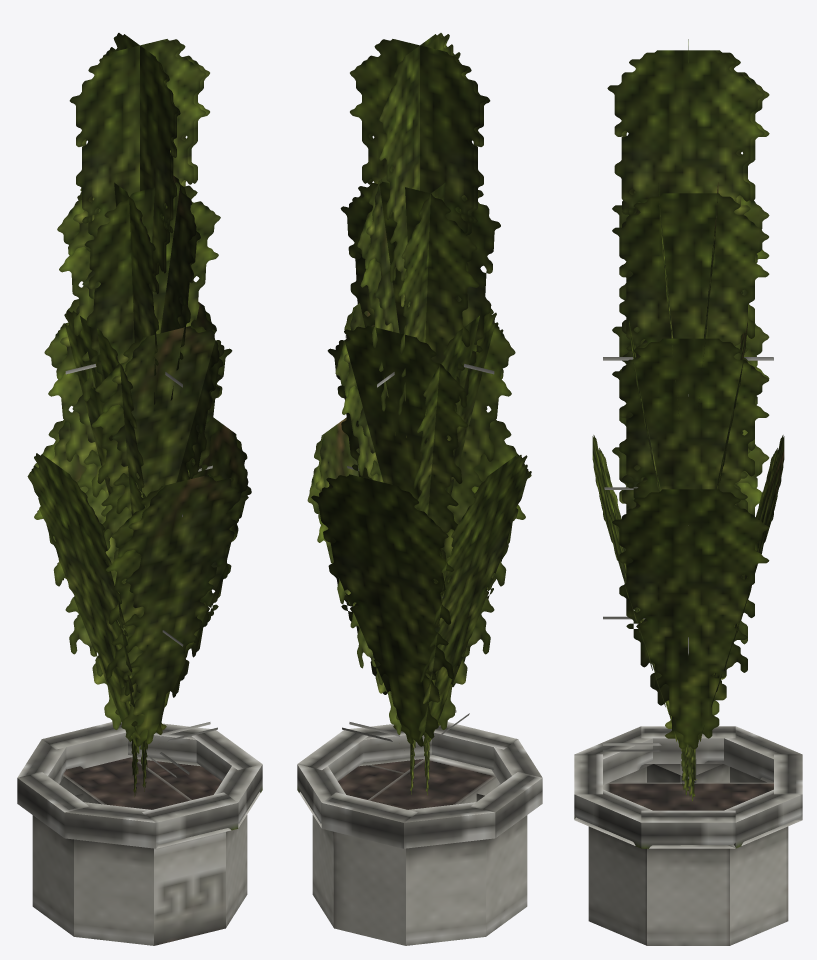
The model's file is potted tree.fbx.
3 renders of one model, left to right at view 1: azimuth 30°, elevation 25°; view 2: azimuth 150°, elevation 25°; view 3: azimuth 270°, elevation 25°, orthographic.
Visible parts, largest first — view 1: 44c5b00b-a6c9-b211-4cd8-3a302726eb31, 7792b6d2-d49d-5958-b70a-c62e6f204d1a, 74ec38da-fd16-aa26-2c1a-302fc3580741, 59230c39-c354-1102-895f-4b2ae2b81a68, 91e3c635-b8be-eeb1-450d-b52125d2020b, c1ecfdcb-32b5-067e-5611-33ddb70ca1e2, fdc61cca-9936-0fde-eadf-7d5d593531d4, 0e43d54b-73b0-ae7f-97cb-c90b352e3085, f78c0236-5a7f-7d1b-18b6-22c86d9eb57c, bbb1fc65-e40d-282f-8227-9e6630853e85, 0a43d55d-ff3e-8ad5-bd5a-60565aaa1a6f, 34c71029-bb19-4d69-0767-6c4bfb9a21e4 (+16 smaller); view 2: 15c2b3eb-10ff-2bfd-b7c6-0987764eea10, f78c0236-5a7f-7d1b-18b6-22c86d9eb57c, 74ec38da-fd16-aa26-2c1a-302fc3580741, 59230c39-c354-1102-895f-4b2ae2b81a68, 91e3c635-b8be-eeb1-450d-b52125d2020b, 6c800395-eca7-c67d-44cd-584f7b6e54cc, 75b3ba8f-f737-29e3-4583-6d61af67399e, 0e43d54b-73b0-ae7f-97cb-c90b352e3085, bbb1fc65-e40d-282f-8227-9e6630853e85, 7792b6d2-d49d-5958-b70a-c62e6f204d1a, 0a43d55d-ff3e-8ad5-bd5a-60565aaa1a6f, 34c71029-bb19-4d69-0767-6c4bfb9a21e4 (+15 smaller); view 3: 2feee4ec-60ff-858b-8022-1bc73772e481, 0e43d54b-73b0-ae7f-97cb-c90b352e3085, c7a5337b-d2fa-97f4-20d6-55512cc74f18, 34c71029-bb19-4d69-0767-6c4bfb9a21e4, 69432b47-92bb-f85d-91ca-eb8d968c5097, 5c6dc298-5ddc-dd36-efc7-c03dcedfe134, 6a048f75-44ab-6e87-ab5b-0ed425b010da, 59230c39-c354-1102-895f-4b2ae2b81a68, baaaf39d-59cb-f4b6-8d2b-57819040c490, d7800a6d-29ed-b129-3ed4-8792792a645d, afc6f7fa-ea1f-7d07-a19b-fae5ad6461d3, 9115a3e2-66cc-cf2f-053f-11ac923f9372 (+13 smaller).
Part boxes in pixels (x1,y1,x2,y2): 44c5b00b-a6c9-b211-4cd8-3a302726eb31: (106, 474, 248, 746); 7792b6d2-d49d-5958-b70a-c62e6f204d1a: (91, 325, 232, 593); 74ec38da-fd16-aa26-2c1a-302fc3580741: (65, 39, 209, 374); 59230c39-c354-1102-895f-4b2ae2b81a68: (59, 757, 225, 945); 91e3c635-b8be-eeb1-450d-b52125d2020b: (27, 453, 176, 777); c1ecfdcb-32b5-067e-5611-33ddb70ca1e2: (84, 182, 220, 381); fdc61cca-9936-0fde-eadf-7d5d593531d4: (74, 839, 153, 945); 0e43d54b-73b0-ae7f-97cb-c90b352e3085: (99, 33, 182, 387); f78c0236-5a7f-7d1b-18b6-22c86d9eb57c: (44, 299, 123, 585); bbb1fc65-e40d-282f-8227-9e6630853e85: (55, 310, 182, 646); 0a43d55d-ff3e-8ad5-bd5a-60565aaa1a6f: (32, 793, 83, 936); 34c71029-bb19-4d69-0767-6c4bfb9a21e4: (160, 175, 200, 516); 15c2b3eb-10ff-2bfd-b7c6-0987764eea10: (311, 474, 453, 746); f78c0236-5a7f-7d1b-18b6-22c86d9eb57c: (327, 325, 468, 595); 74ec38da-fd16-aa26-2c1a-302fc3580741: (345, 39, 494, 374); 59230c39-c354-1102-895f-4b2ae2b81a68: (334, 755, 500, 945); 91e3c635-b8be-eeb1-450d-b52125d2020b: (418, 455, 531, 746); 6c800395-eca7-c67d-44cd-584f7b6e54cc: (340, 181, 479, 470); 75b3ba8f-f737-29e3-4583-6d61af67399e: (406, 839, 485, 945); 0e43d54b-73b0-ae7f-97cb-c90b352e3085: (377, 33, 460, 387); bbb1fc65-e40d-282f-8227-9e6630853e85: (413, 312, 503, 597); 7792b6d2-d49d-5958-b70a-c62e6f204d1a: (436, 308, 515, 601); 0a43d55d-ff3e-8ad5-bd5a-60565aaa1a6f: (476, 793, 527, 936); 34c71029-bb19-4d69-0767-6c4bfb9a21e4: (357, 175, 399, 411); 2feee4ec-60ff-858b-8022-1bc73772e481: (603, 489, 769, 751); 0e43d54b-73b0-ae7f-97cb-c90b352e3085: (603, 50, 773, 360); c7a5337b-d2fa-97f4-20d6-55512cc74f18: (603, 338, 769, 619); 34c71029-bb19-4d69-0767-6c4bfb9a21e4: (604, 193, 769, 489); 69432b47-92bb-f85d-91ca-eb8d968c5097: (647, 848, 729, 945); 5c6dc298-5ddc-dd36-efc7-c03dcedfe134: (588, 826, 646, 945); 6a048f75-44ab-6e87-ab5b-0ed425b010da: (730, 826, 788, 945); 59230c39-c354-1102-895f-4b2ae2b81a68: (603, 782, 773, 810); baaaf39d-59cb-f4b6-8d2b-57819040c490: (641, 810, 735, 848); d7800a6d-29ed-b129-3ed4-8792792a645d: (724, 789, 802, 848); afc6f7fa-ea1f-7d07-a19b-fae5ad6461d3: (574, 789, 652, 848); 9115a3e2-66cc-cf2f-053f-11ac923f9372: (716, 726, 801, 782).
Bounding box in the file's own units: 39.37 × 162 × 39.37.
1 material, 1 textured.
